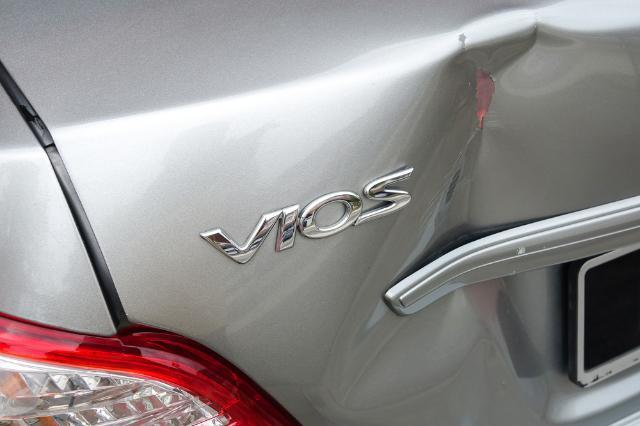dent: (328, 24, 575, 411)
